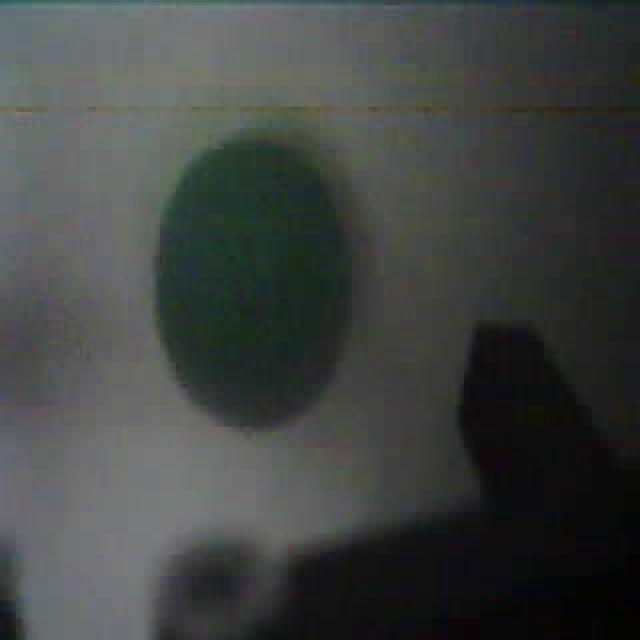green_ball: (150, 123, 358, 432)
